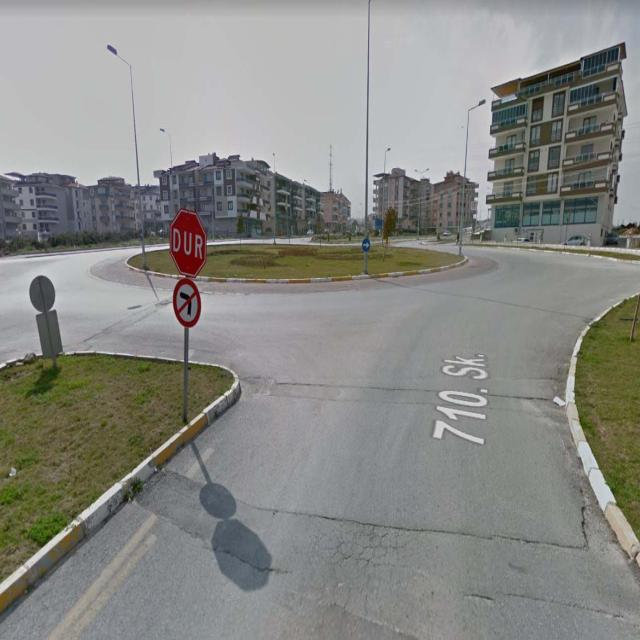dur: (170, 208, 205, 275)
sag: (362, 238, 370, 251)
soladonulmez: (172, 278, 204, 330)
